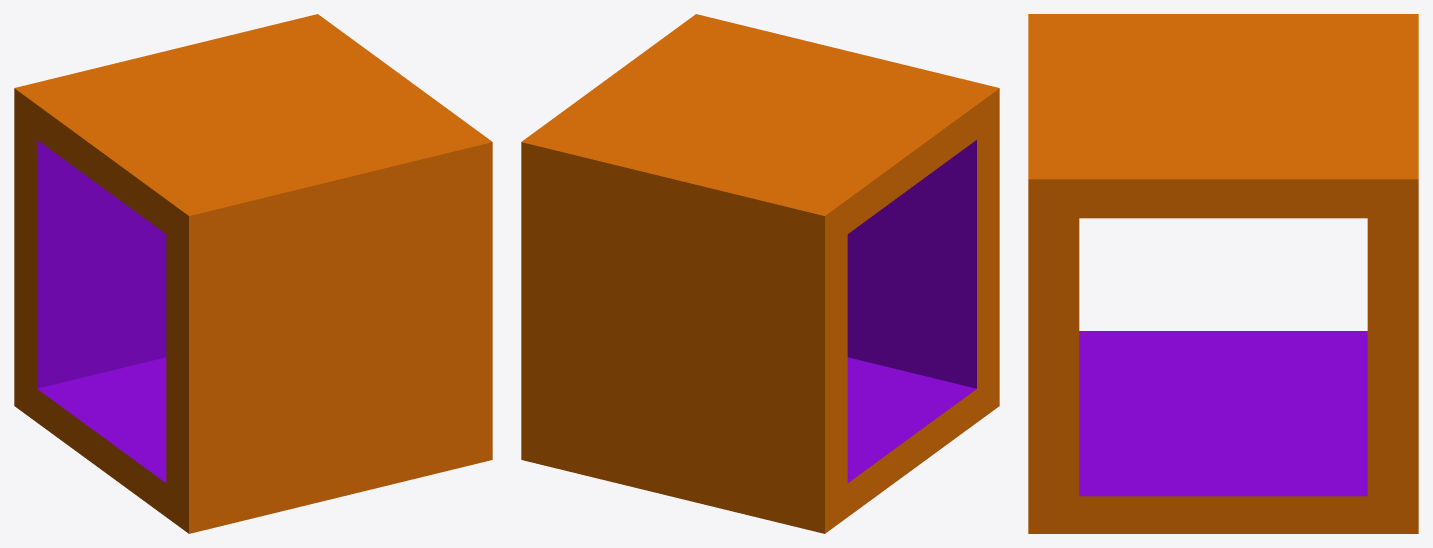
Rendered from Kare.fbx.
3 renders of one model, left to right at view 1: azimuth 30°, elevation 25°; view 2: azimuth 150°, elevation 25°; view 3: azimuth 270°, elevation 25°, orthographic. The views are drawn at different scales.
Visible parts, largest first — view 1: Cube; view 2: Cube; view 3: Cube.
Boxes of the visible parts, x1,y1,x2,y2 form: Cube: [14, 14, 492, 533]; Cube: [521, 14, 999, 533]; Cube: [1028, 14, 1418, 533].
Size of the model in its own units: 200 by 200 by 200.
